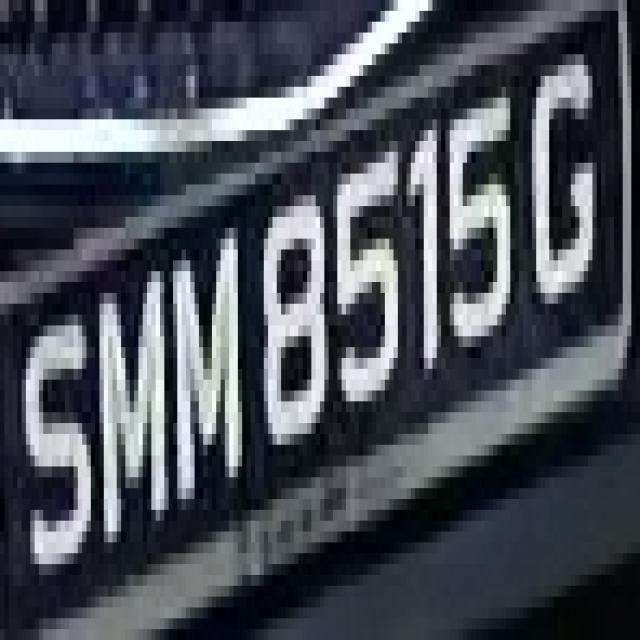1: (398, 76, 458, 434)
5: (446, 43, 524, 390), (333, 120, 402, 467)
8: (259, 163, 333, 466)
G: (532, 22, 601, 325)
M: (156, 228, 255, 488), (95, 250, 173, 553)
S: (13, 314, 104, 575)
